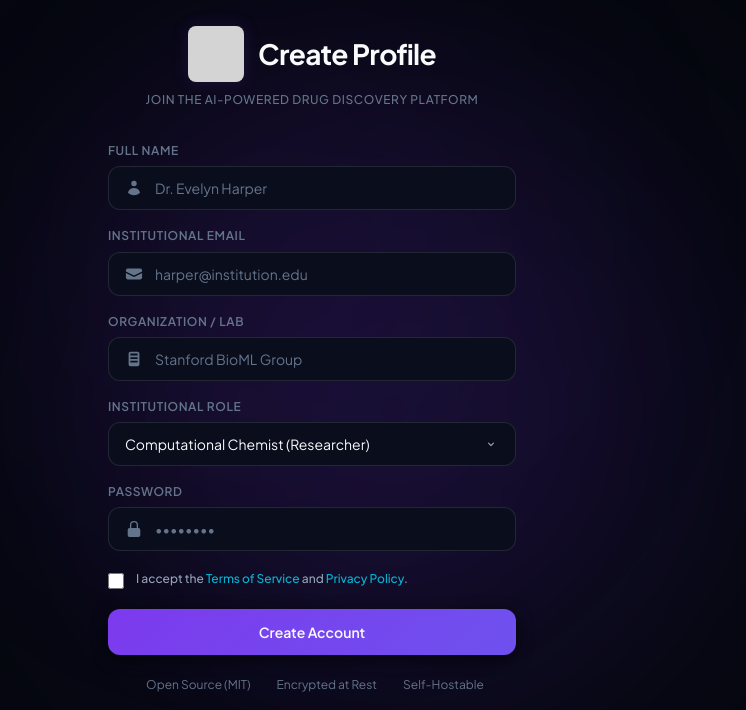
Test case: SignupPage › shows error when fields are empty
Click the button "Create Account".
click(312, 632)  # box x1=108 y1=609 x2=516 y2=655
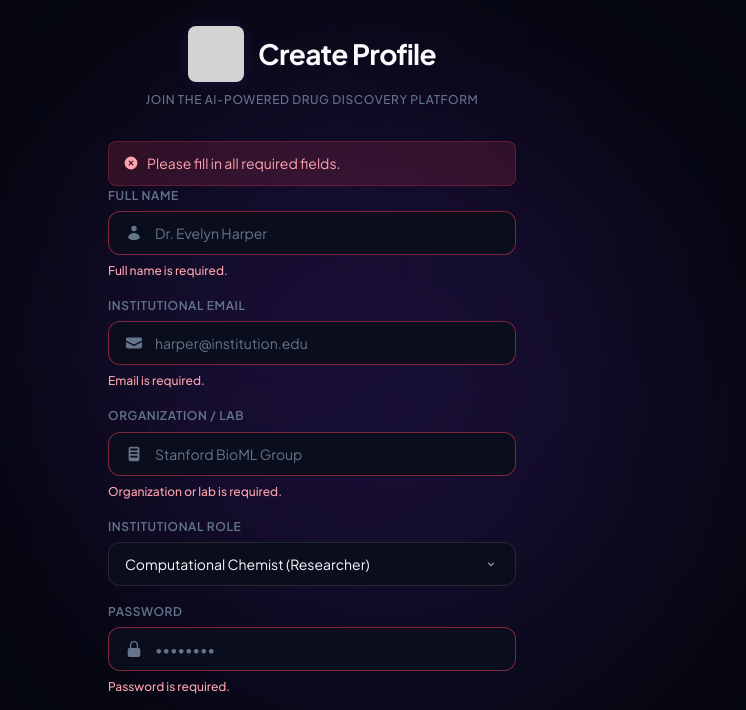
Expected: the text "Please fill in all required fields." is shown, x1=147 y1=152 x2=341 y2=175
